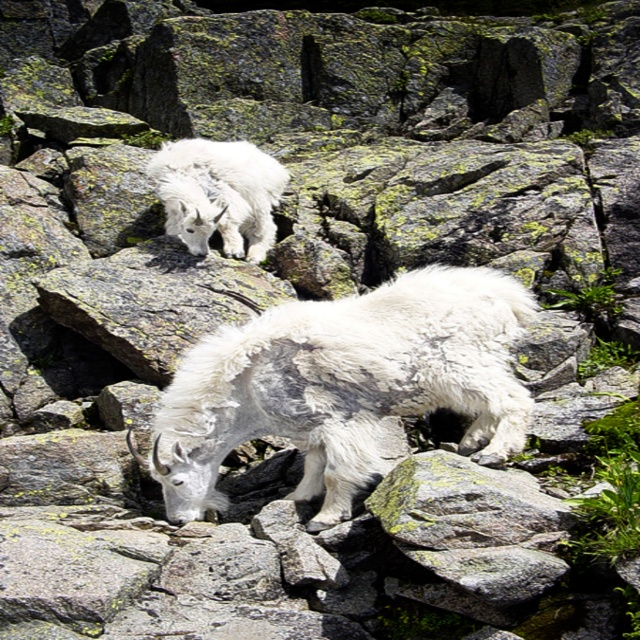Goat: (129, 265, 539, 532), (138, 136, 303, 265)
